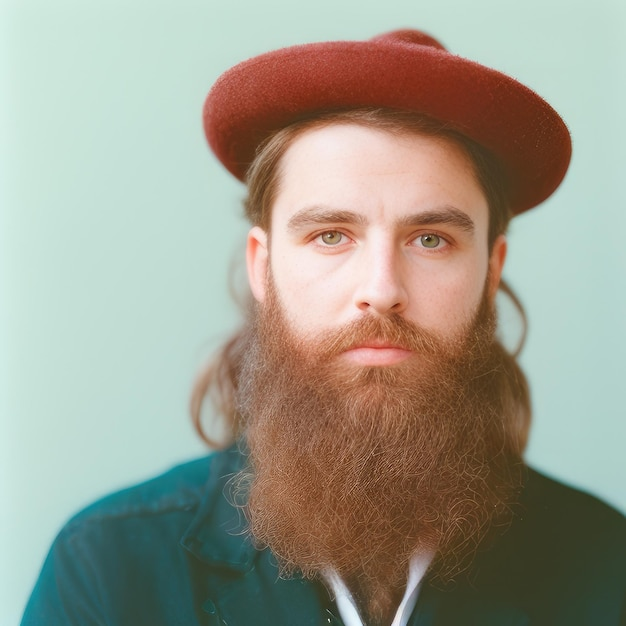young: (244, 91, 500, 436)
